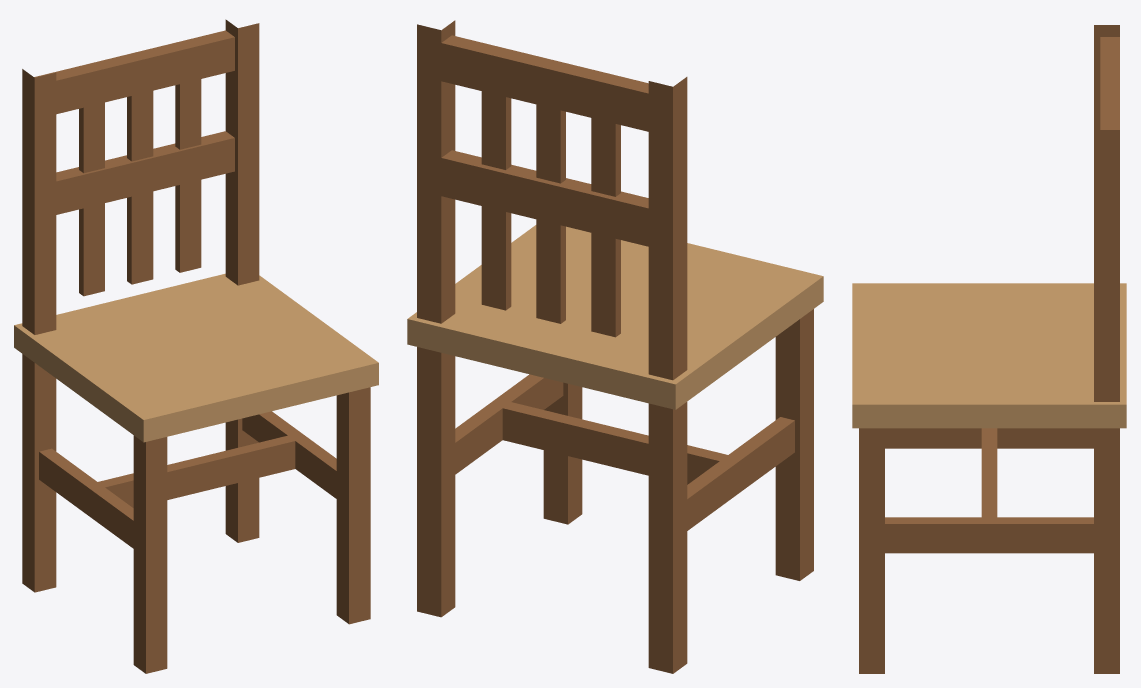
Rendered from cadeira-madeira.glb.
The picture shows the model from 3 angles, left to right: view 1: azimuth 30°, elevation 25°; view 2: azimuth 150°, elevation 25°; view 3: azimuth 270°, elevation 25°; orthographic projection. The views are drawn at different scales.
Visible parts, largest first — view 1: Pernas, Encosto, Assento; view 2: Pernas, Encosto, Assento; view 3: Assento, Pernas, Encosto.
Part boxes in pixels (x1,y1,x2,y2): Pernas: [22, 19, 370, 673]; Encosto: [34, 30, 336, 548]; Assento: [14, 273, 378, 442]; Pernas: [417, 20, 813, 673]; Encosto: [429, 35, 794, 530]; Assento: [407, 225, 823, 409]; Assento: [852, 283, 1126, 428]; Pernas: [859, 25, 1119, 673]; Encosto: [885, 37, 1119, 553].
Bounding box in the file's own units: 0.44 × 0.92 × 0.42.
